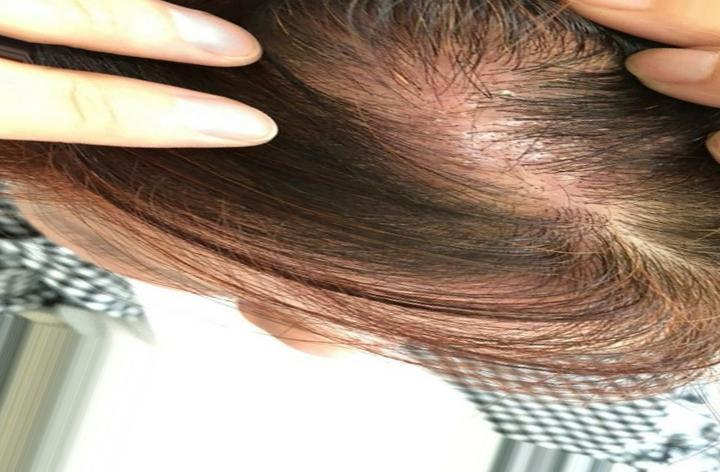Contact Dermatitis: (344, 17, 565, 255)
